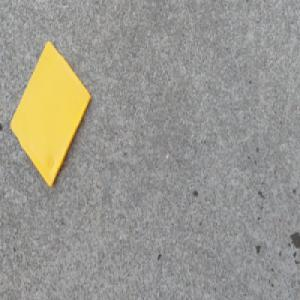PlasticPart: (7, 37, 92, 190)
